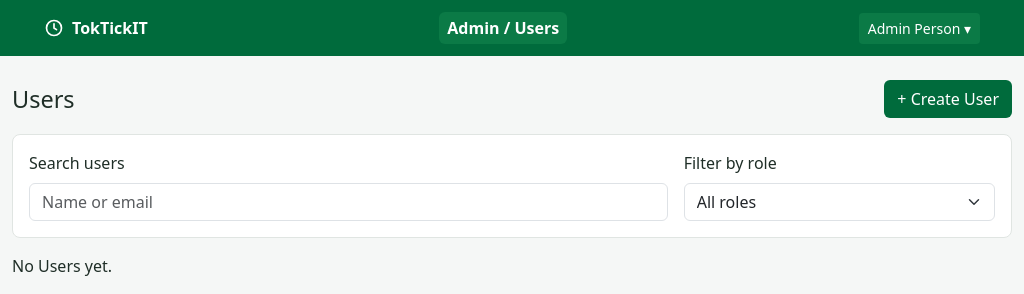
Test: Issue 7 User Management (UI-08, focused UI-09 accessibility) › distinguishes empty Users from no search results
Expected: the text "No Users yet." is shown, [12,255,112,277]
Type "missing" into the search field labelled "Search users" at (348, 202), box [29,183,668,221]
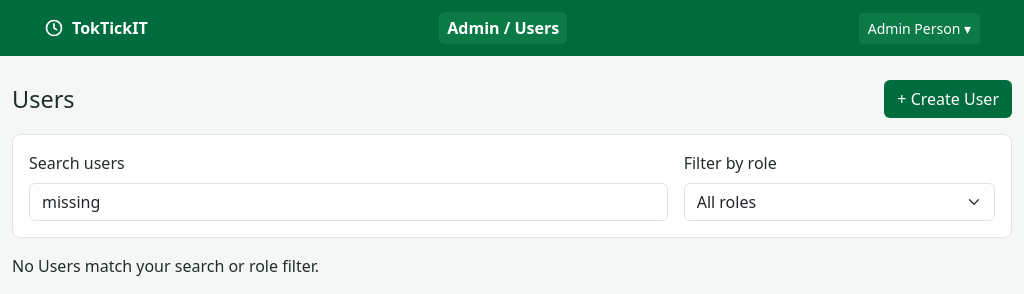
Expected: the text "No Users match your search or role filter." is shown, [12,255,319,277]
